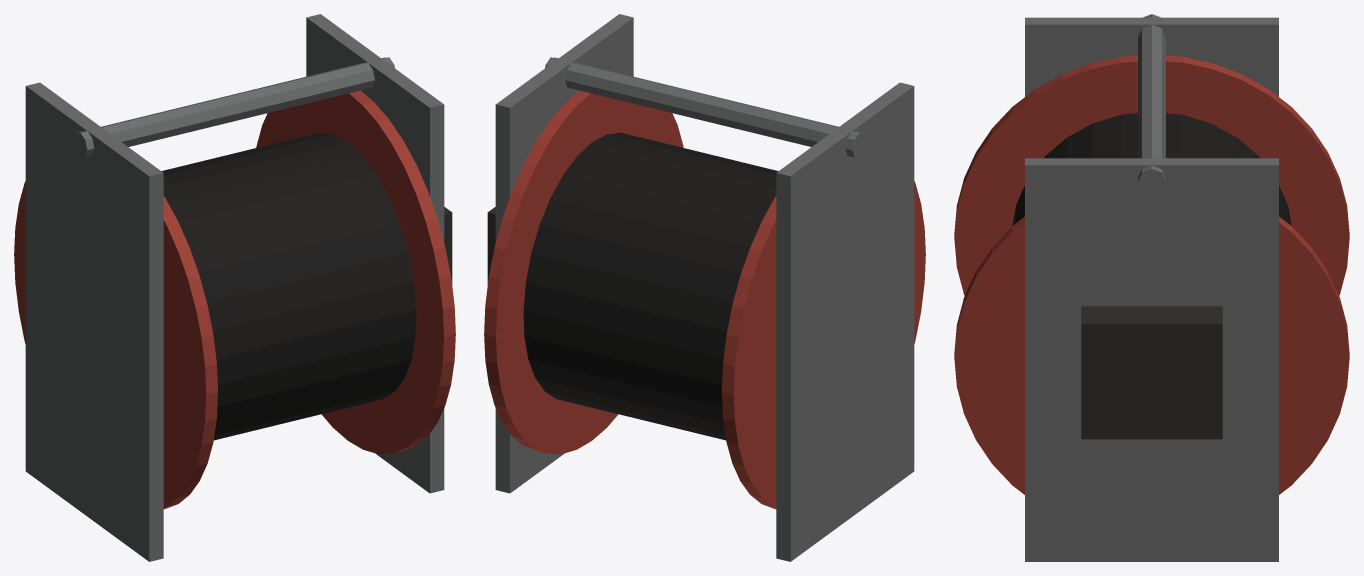
The model's file is extension-cord-reel.glb.
3 renders of one model, left to right at view 1: azimuth 30°, elevation 25°; view 2: azimuth 150°, elevation 25°; view 3: azimuth 270°, elevation 25°, orthographic. The views are drawn at different scales.
Visible parts, largest first — view 1: metal, rubber, accent-warm; view 2: metal, rubber, accent-warm; view 3: metal, accent-warm, plastic-dark, rubber.
Part boxes in pixels (<box>): metal: <box>25,14,444,561</box>; rubber: <box>161,132,416,440</box>; accent-warm: <box>14,90,455,509</box>; metal: <box>495,14,914,561</box>; rubber: <box>523,132,778,440</box>; accent-warm: <box>484,90,925,509</box>; metal: <box>1025,14,1278,561</box>; accent-warm: <box>954,55,1349,494</box>; plastic-dark: <box>1081,306,1222,439</box>; rubber: <box>1012,113,1291,225</box>.
Size of the model in its own units: 0.284 by 0.31 by 0.28.
